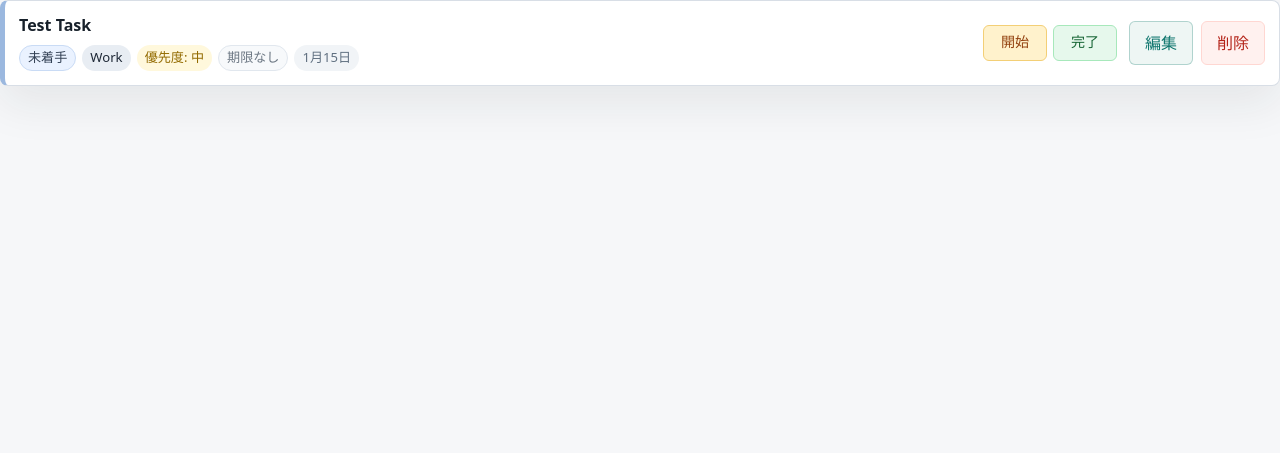
TaskItem › list モードで編集ボタンをクリックすると inline フォームが表示される
Click the button "編集".
click(1161, 43)  # box [1129,21,1193,65]
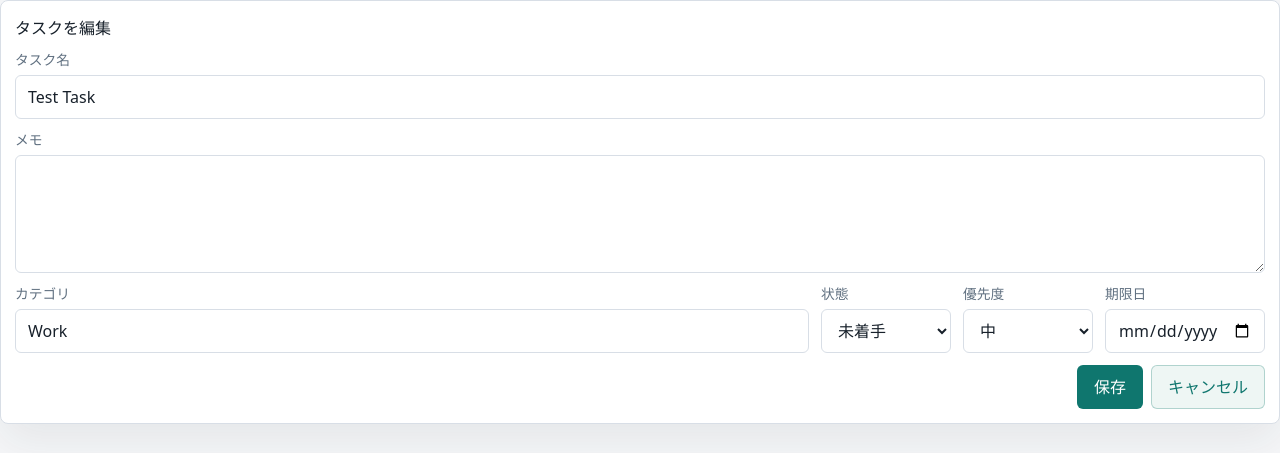
Expected: the button "保存" is shown, [1077,365,1143,409]
